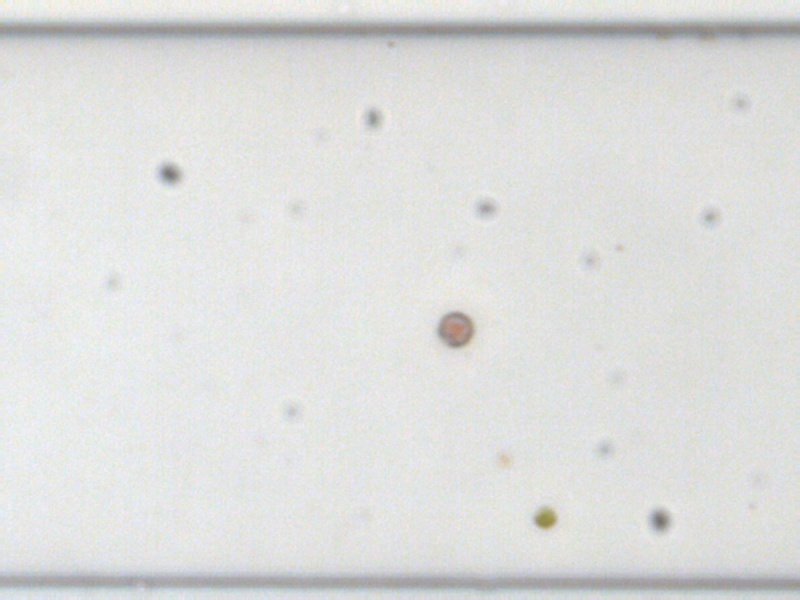Chlorella: (532, 503, 559, 529)
Porphyridium: (436, 311, 473, 349)
